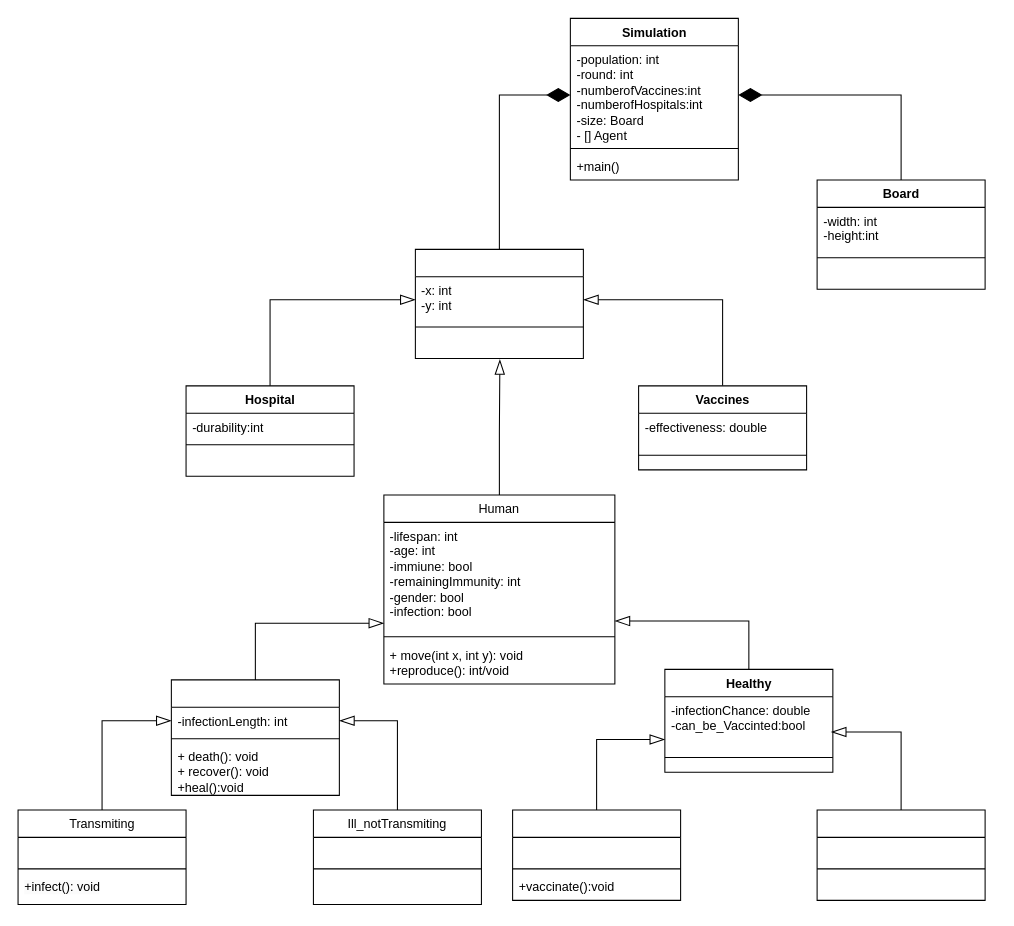
Some shapes in this 1014 by 926 pixel diagram are drawn without their labels. The shapes that lost their labels are listed below. From the top down, each one's box as (x1, y1, x2, y2) in pixels, then its label:
(414, 248, 583, 359): Object
(170, 679, 339, 795): Infected
(512, 809, 681, 900): Healthy_NotTransmiting
(816, 809, 985, 900): Immune
